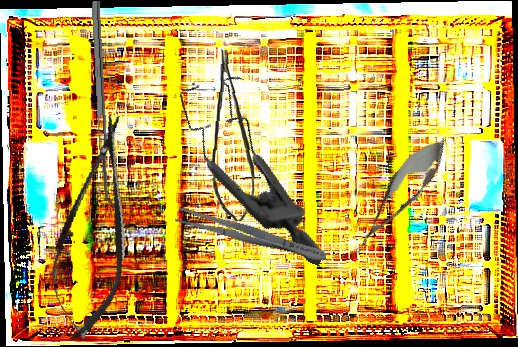Dressing Forceps: (174, 204, 329, 267)
Micro Scissor: (39, 108, 149, 346), (340, 126, 458, 266), (209, 49, 261, 222)
Spatula Surgical: (91, 0, 119, 211)
Speculum: (139, 57, 377, 267)
